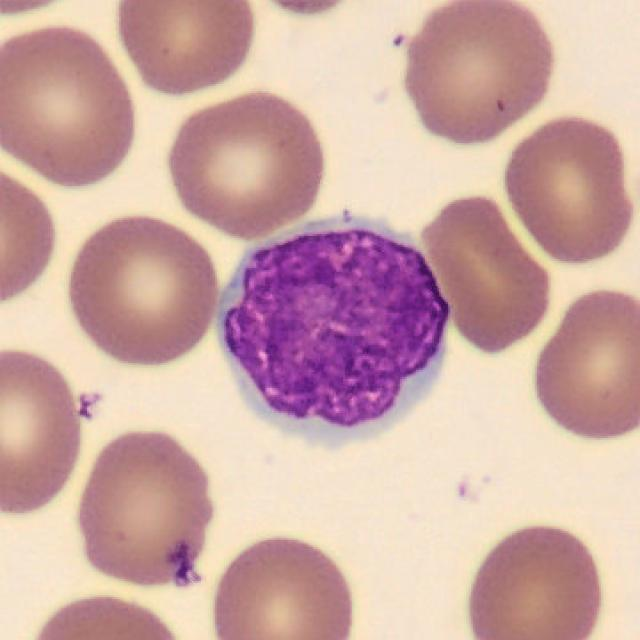Linfocito: (217, 227, 450, 429)
